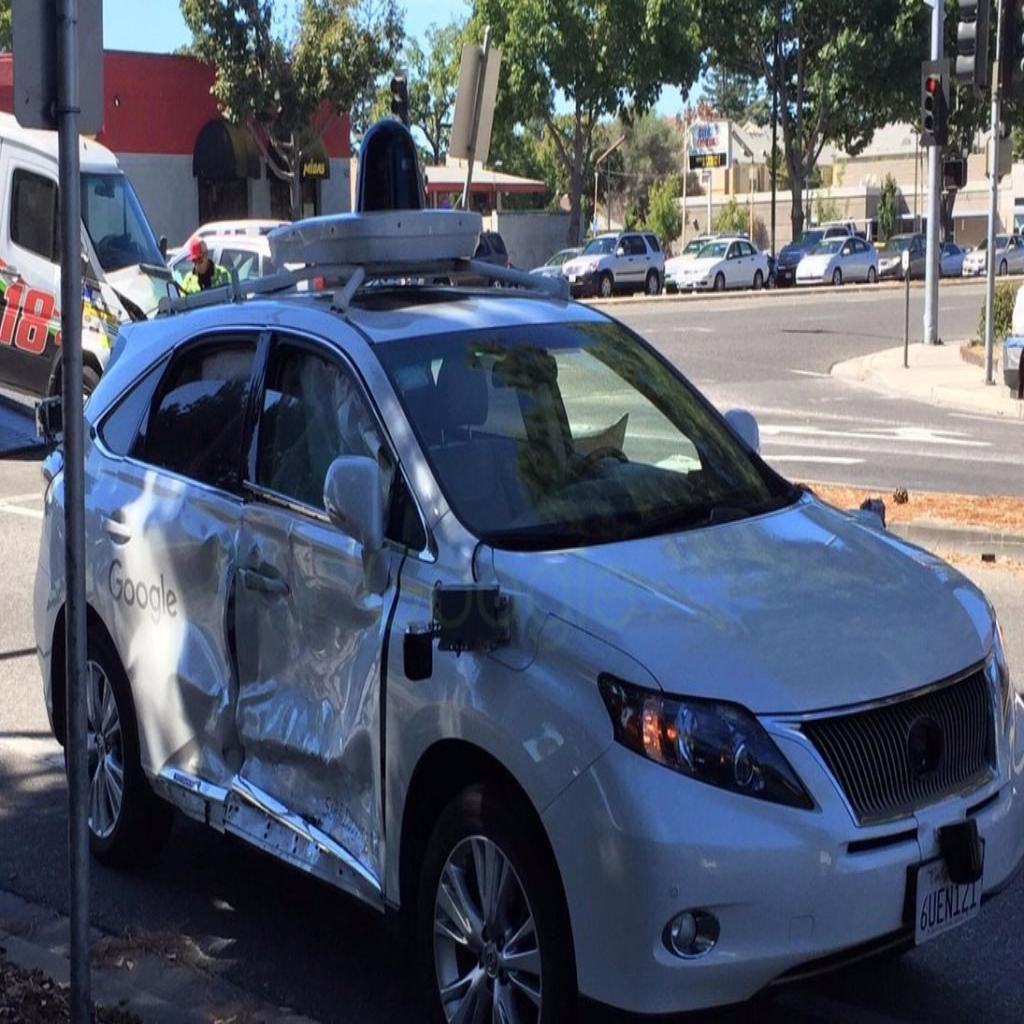Broken-glass: (260, 342, 398, 519)
Dent: (116, 504, 391, 819)
